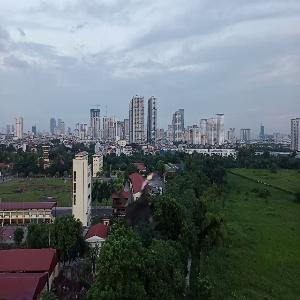drone: (105, 161, 189, 245)
